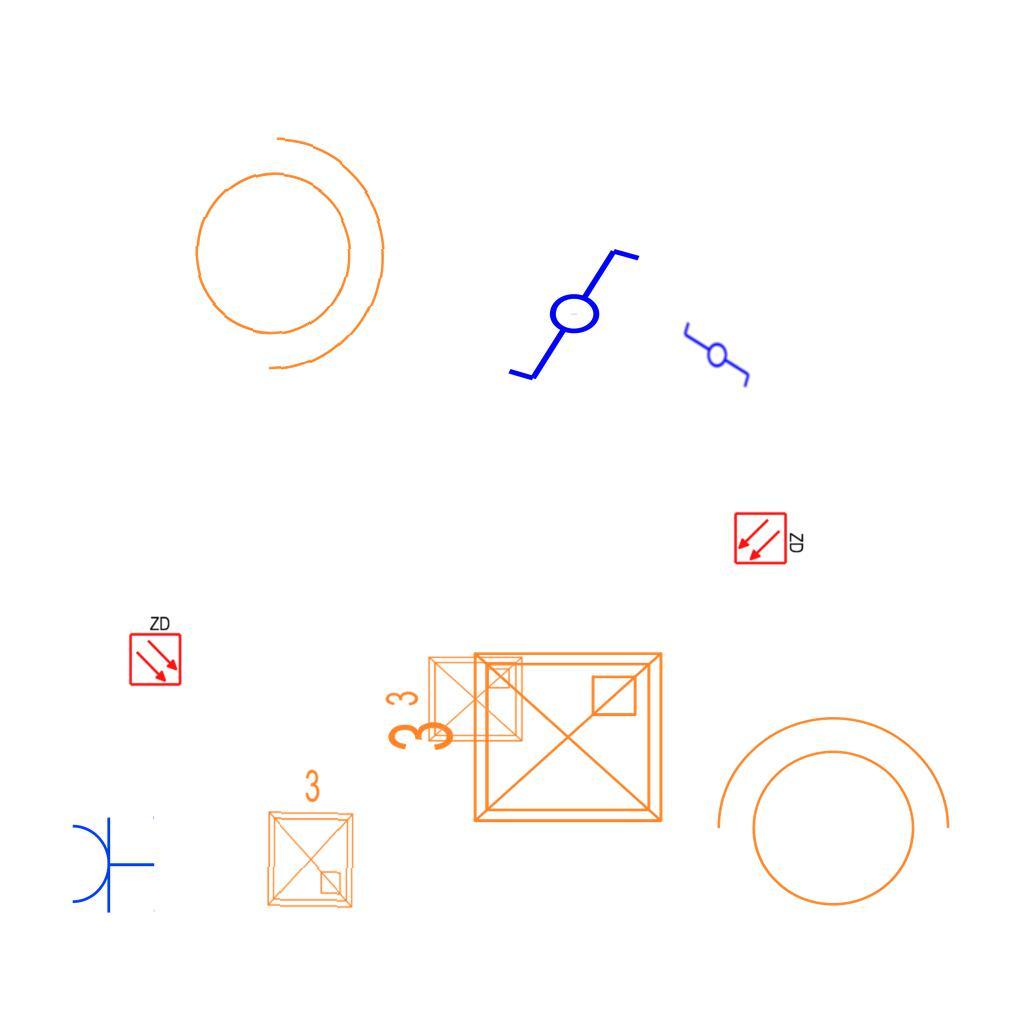Einbaudownlights_LED_Konferenzraeume: (377, 637, 677, 845), (255, 763, 363, 915), (380, 649, 530, 753)
Scheinwerfer_fuer_Alarmbeleuchtung: (165, 111, 401, 384), (695, 706, 959, 931)
Schukosteckdose_einfach: (68, 814, 155, 914)
Wechselschalter: (504, 244, 661, 388), (680, 320, 752, 398)
ZD_Melder_in_Zwischendecke_mit_Revisionsoeffnung_mind_40_x_40_cm: (126, 613, 183, 687), (733, 509, 807, 566)
